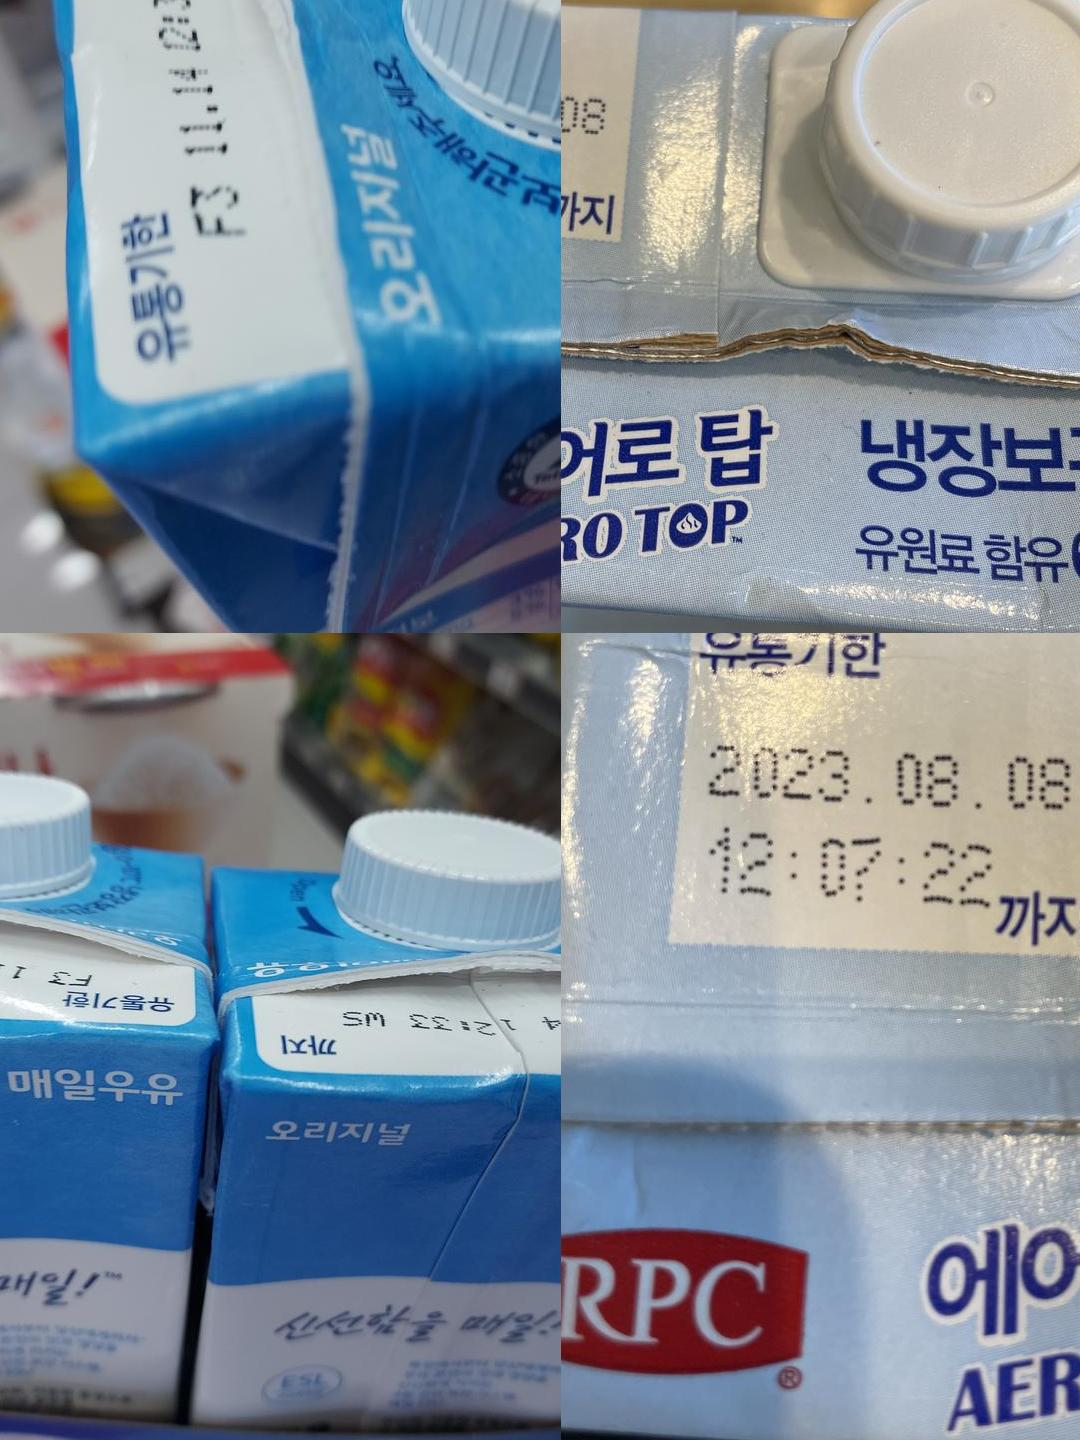milk: (680, 633, 1080, 952), (68, 0, 341, 392), (562, 0, 712, 256), (251, 985, 562, 1085), (0, 937, 253, 1023)
